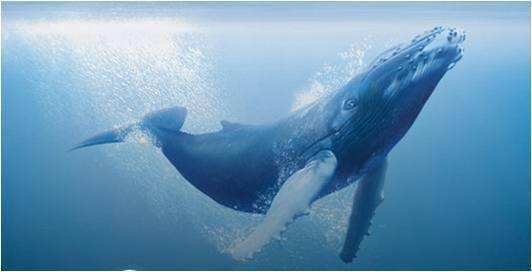fish: (62, 23, 470, 263)
